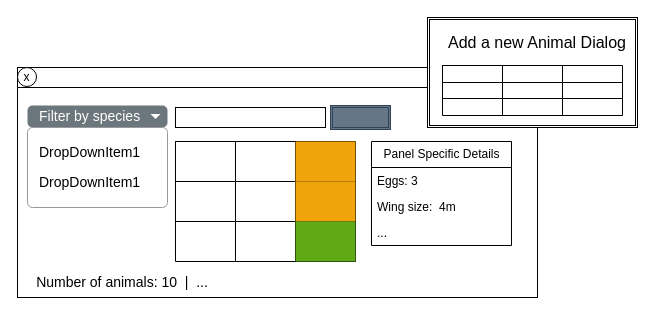
Image size: 655x315. Some labels were removed from this diagram. The shapes that lost their labels are listed below. From the top down, each one's centre as x and y in pixels, then its label:
the point at 250,117: Search
the point at 360,117: SearchBtn
